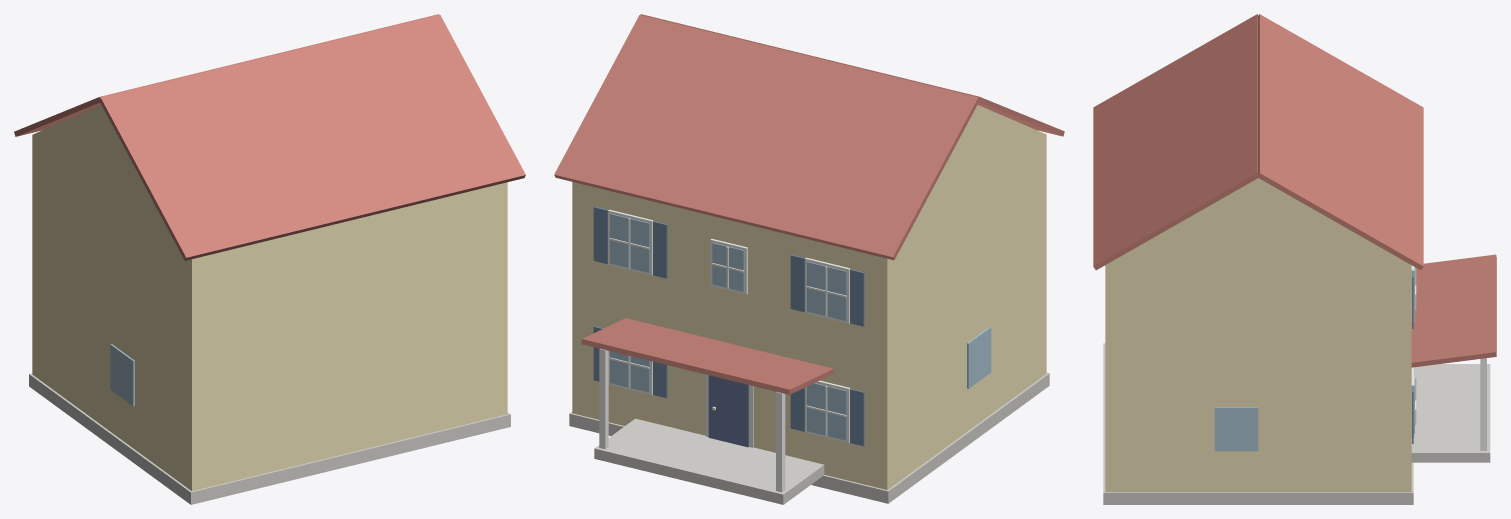
The model's file is house_two_storey.glb.
3 views of the same model, side by side, from view 1: azimuth 30°, elevation 25°; view 2: azimuth 150°, elevation 25°; view 3: azimuth 270°, elevation 25° (orthographic). The views are drawn at different scales.
Parts seen in each view (by area): view 1: body; view 2: body; view 3: body.
Part boxes in pixels (box(x1,y1,x2,y2)): body: box(14, 14, 525, 504); body: box(554, 14, 1064, 504); body: box(1093, 14, 1496, 504).
Size of the model in its own units: 8.6 by 8.49 by 9.23.
